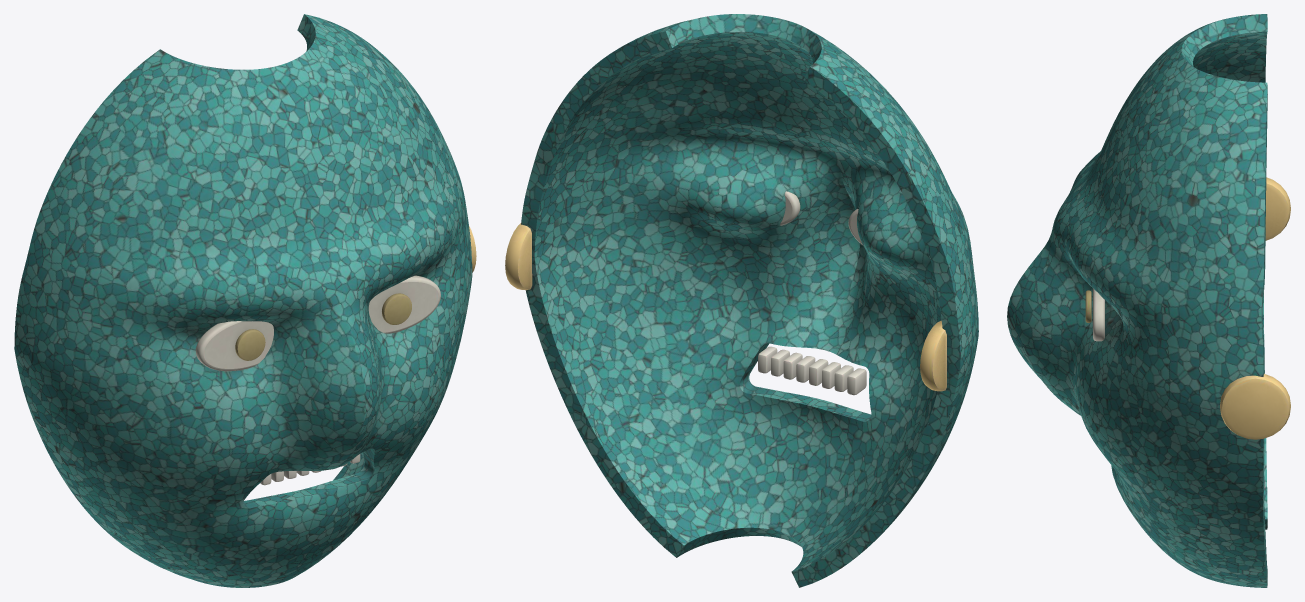
Rendered from mosaic_mask.glb.
3 views of the same model, side by side, from view 1: azimuth 30°, elevation 25°; view 2: azimuth 150°, elevation 25°; view 3: azimuth 270°, elevation 25° (orthographic). The views are drawn at different scales.
Visible parts, largest first — view 1: mosaic_mask; view 2: mosaic_mask; view 3: mosaic_mask.
Boxes of the visible parts, <box> form: mosaic_mask: <box>14,14,476,587</box>; mosaic_mask: <box>505,14,978,587</box>; mosaic_mask: <box>1007,14,1290,587</box>.
Size of the model in its own units: 0.169 by 0.1907 by 0.0961.
Materials: 1 (1 with a texture image).
